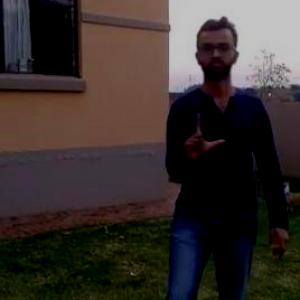land_hand: (175, 106, 228, 170)
